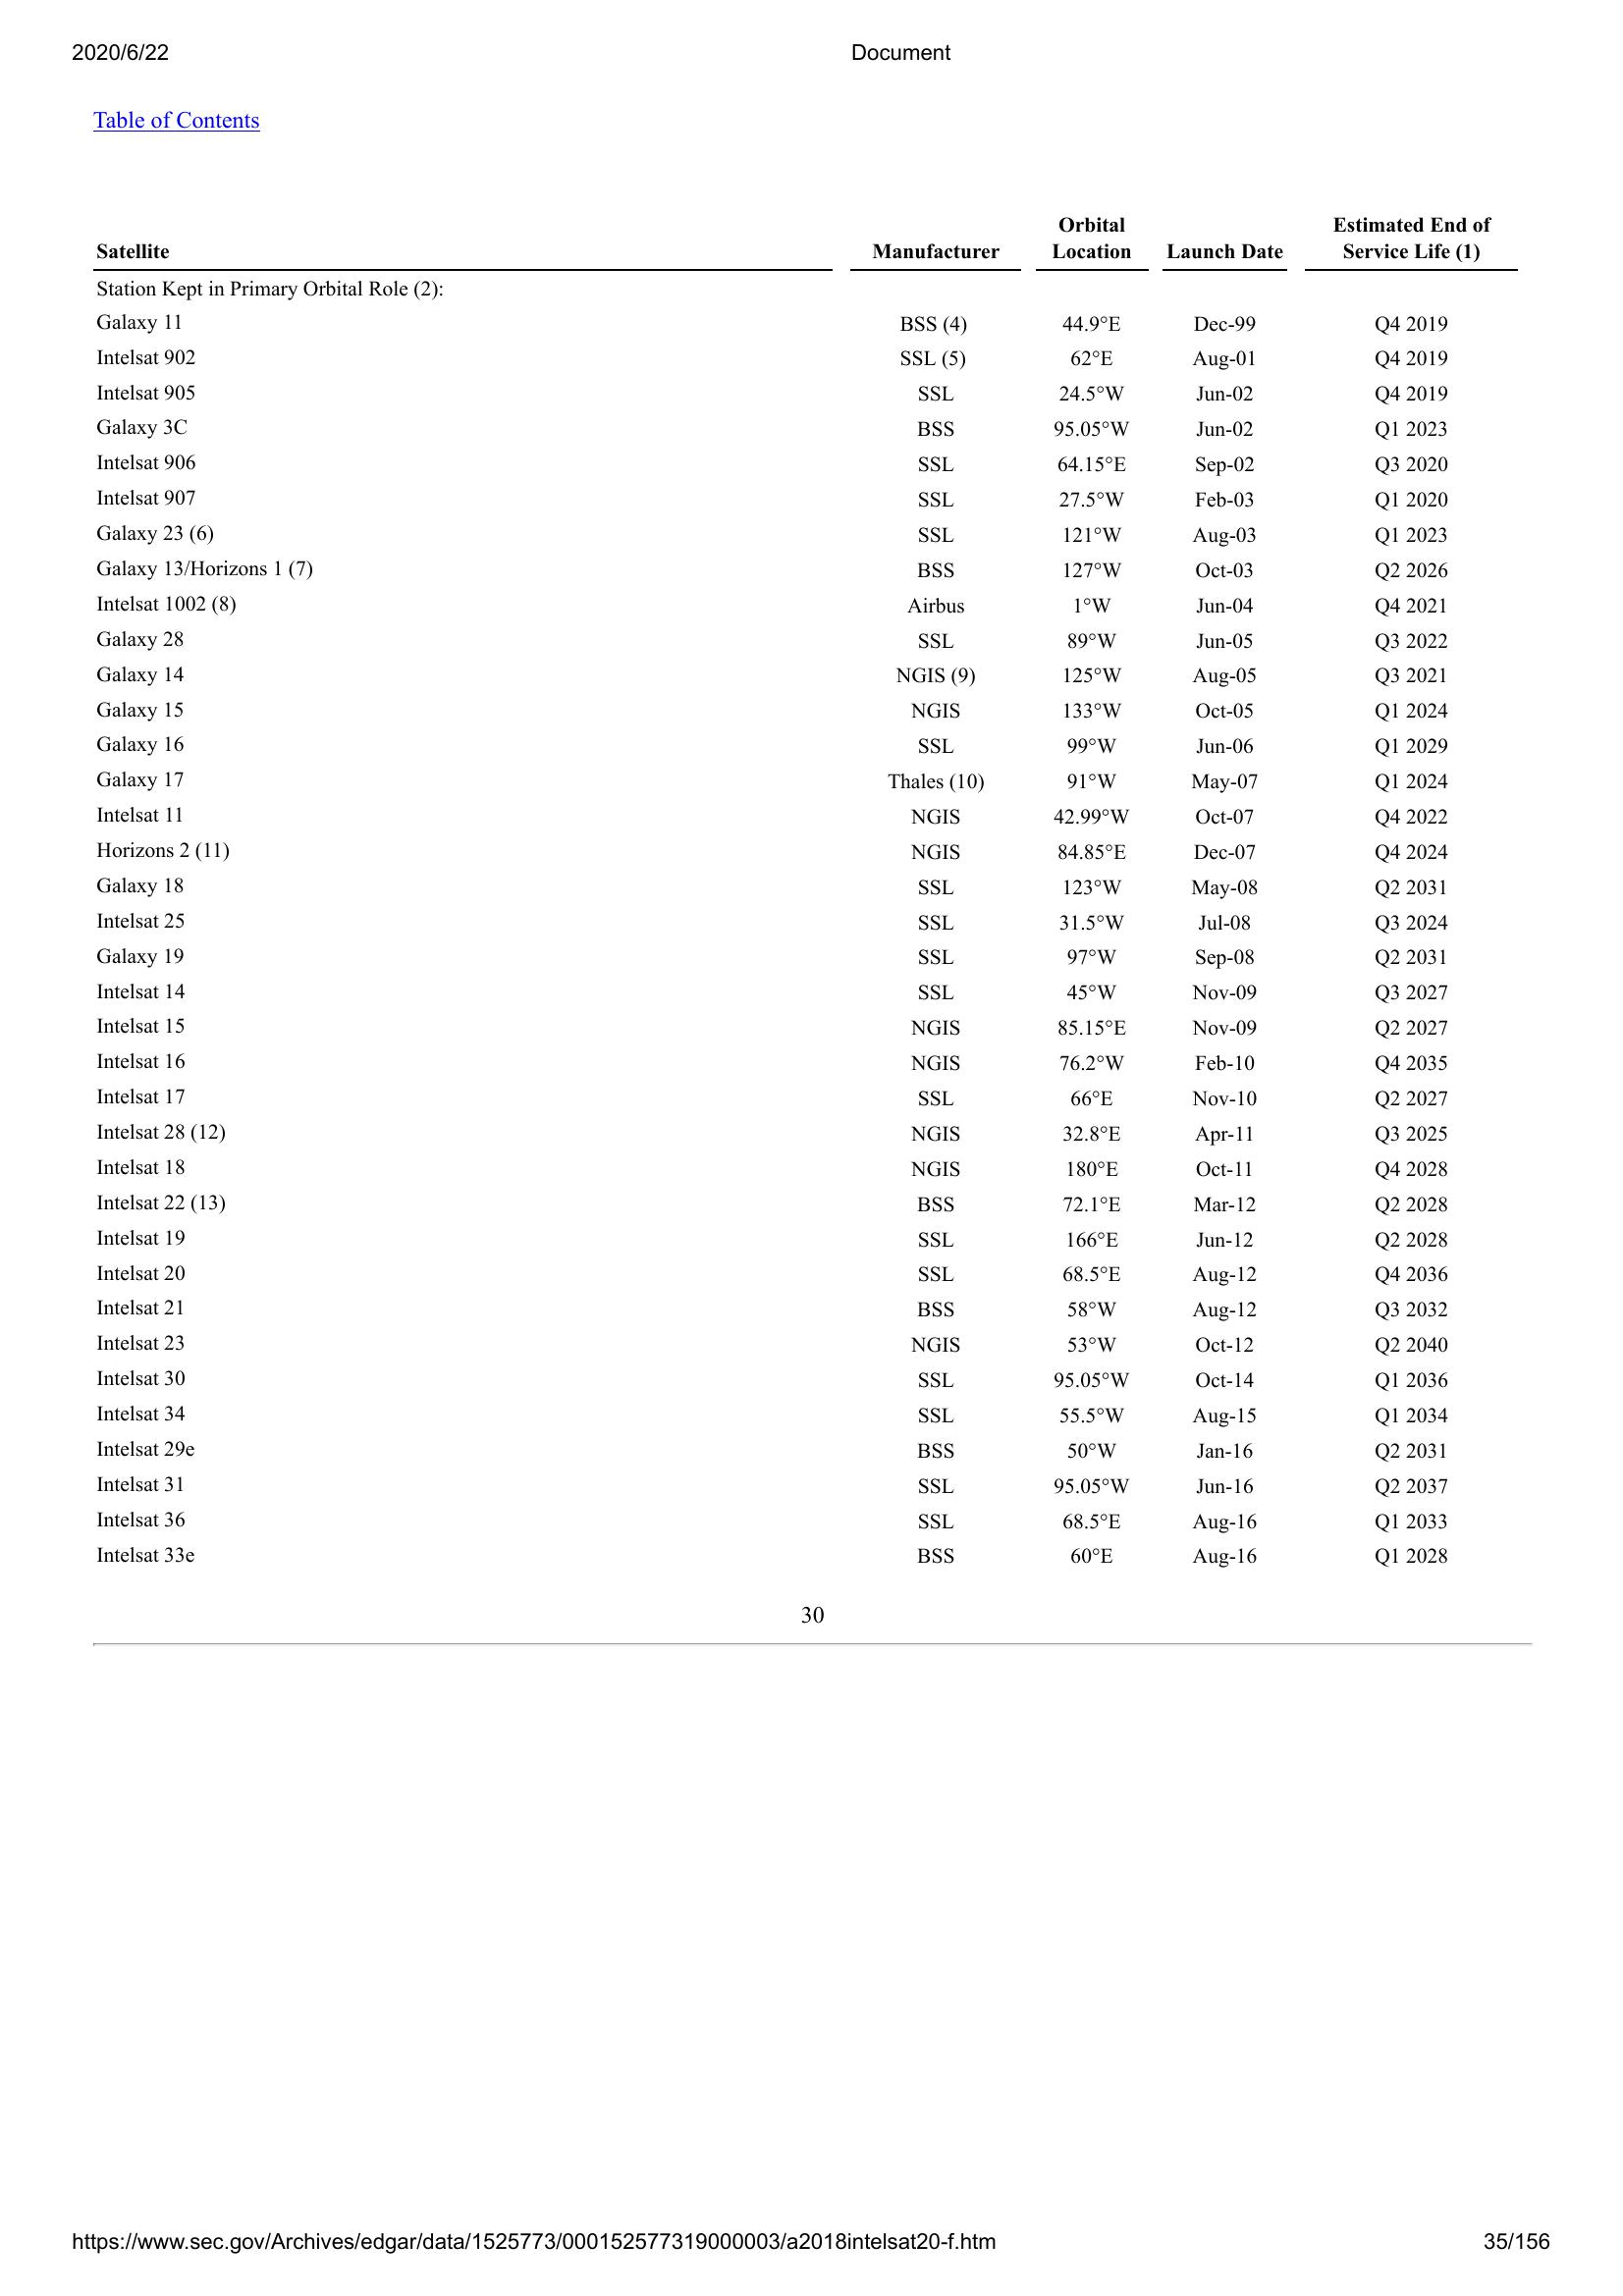table: (77, 209, 1528, 1578)
